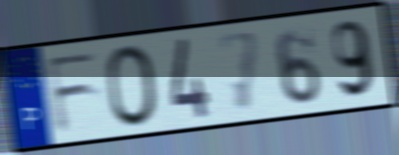4: (169, 36, 212, 122)
6: (273, 25, 323, 107)
7: (217, 28, 262, 117)
9: (330, 18, 375, 100)
F: (43, 49, 101, 137)
O: (103, 42, 162, 129)
